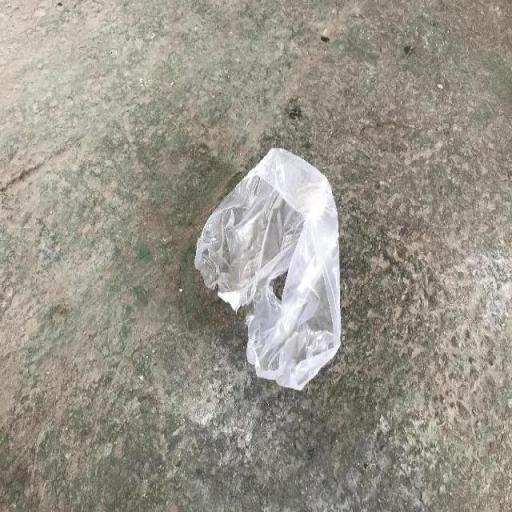plastic-bag: (194, 147, 346, 400)
